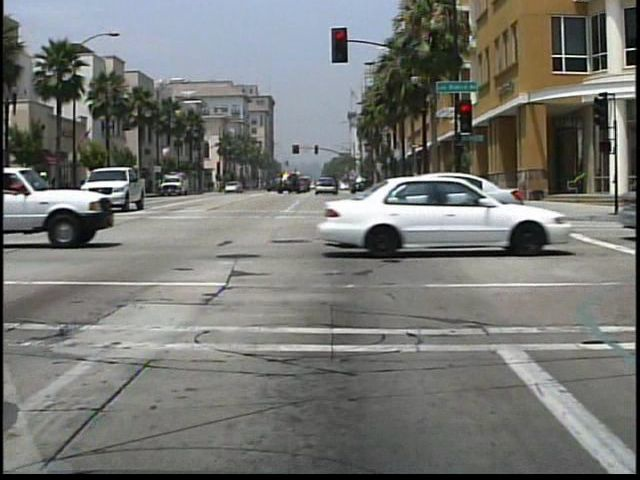person: (33, 169, 58, 216)
